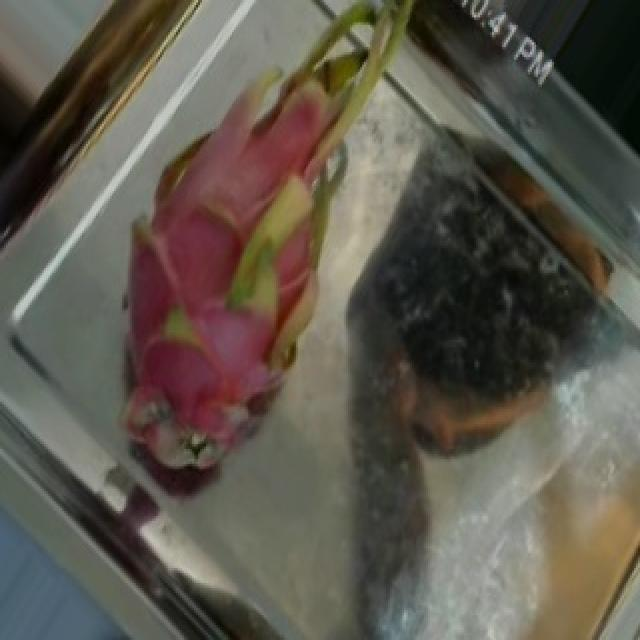fruit: (70, 0, 496, 407)
